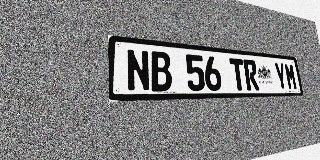5: (185, 54, 206, 91)
6: (203, 56, 222, 91)
B: (149, 51, 173, 91)
M: (284, 63, 298, 90)
N: (126, 49, 151, 92)
R: (243, 59, 260, 90)
T: (229, 58, 247, 91)
Y: (273, 62, 288, 90)
